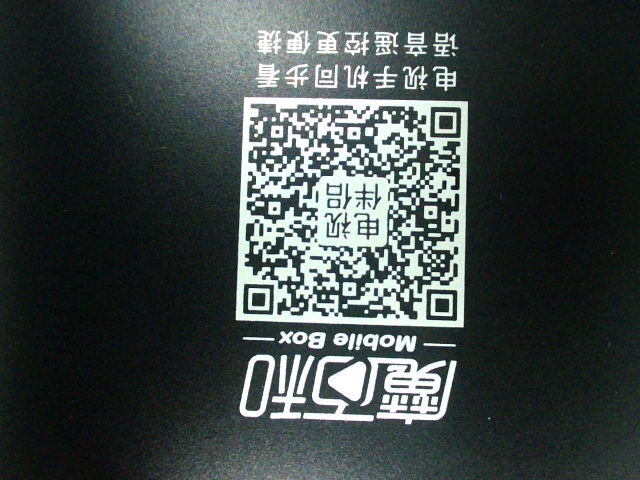AZ_MobileBox: (230, 25, 473, 427)
